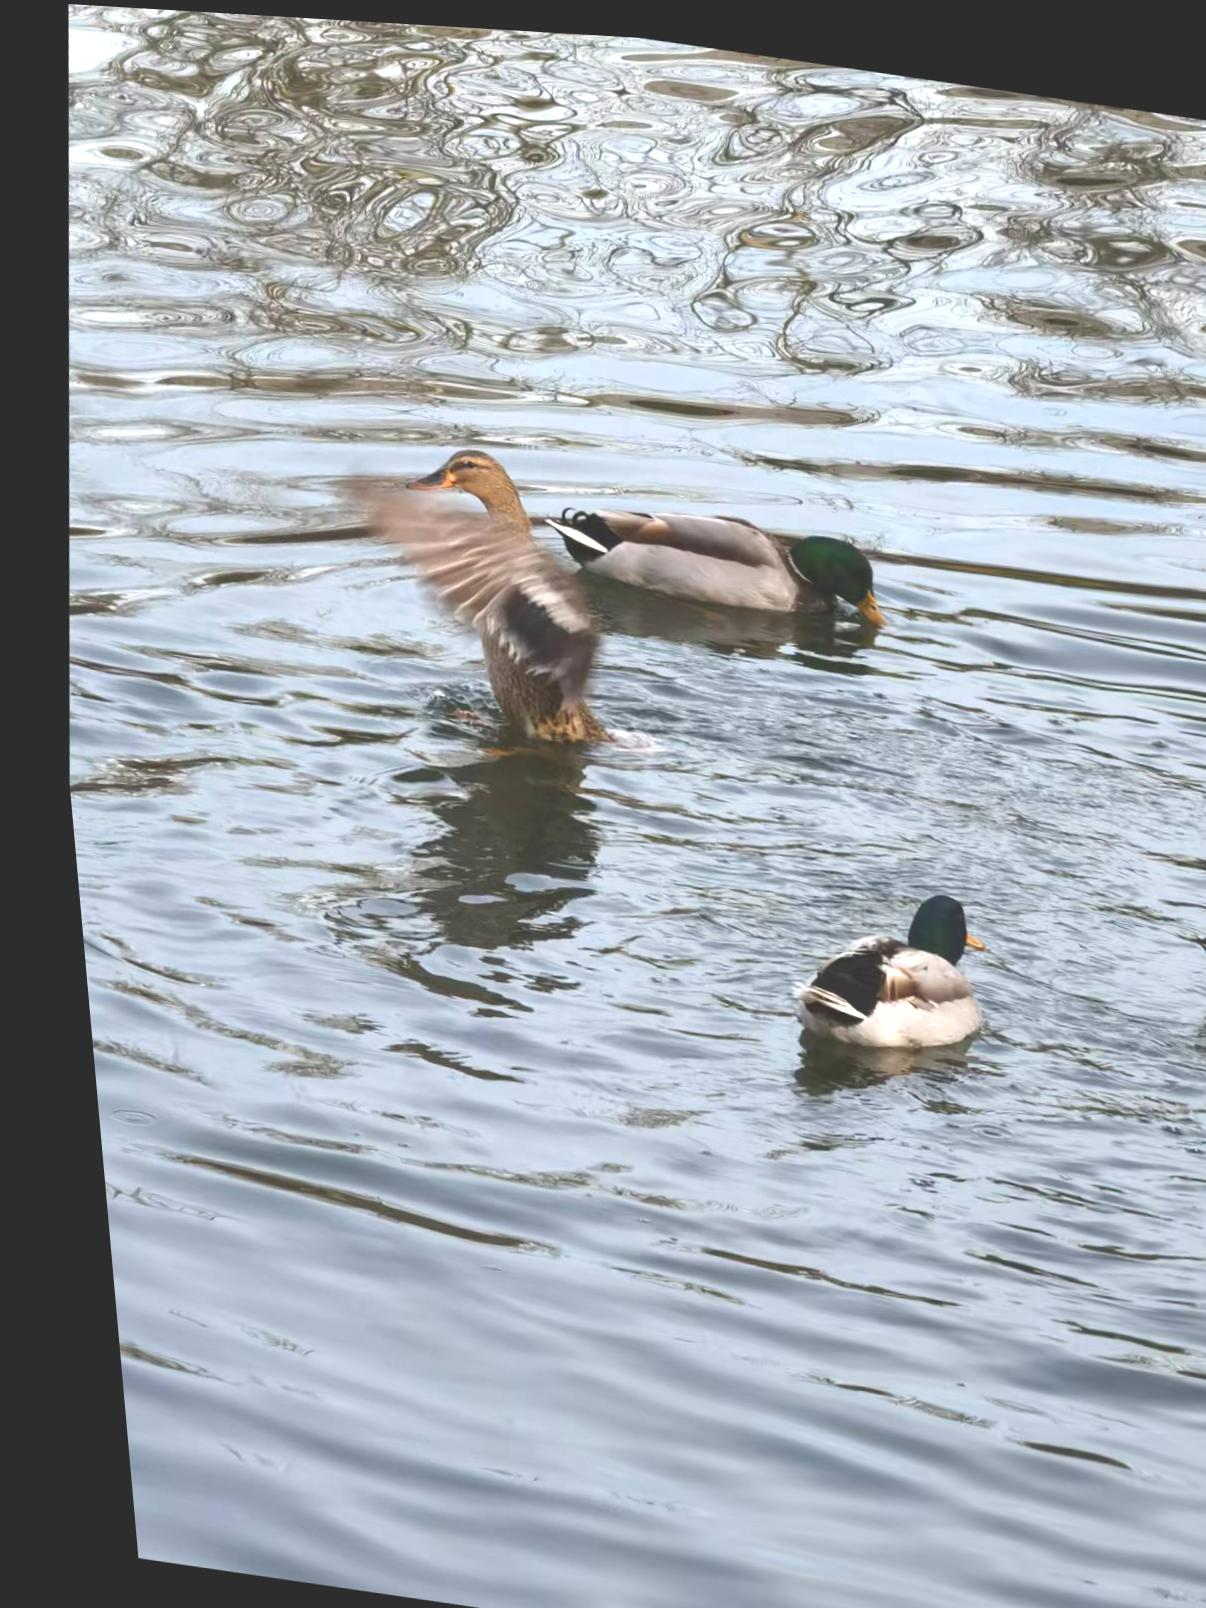duck: (318, 414, 637, 742), (547, 474, 896, 625), (759, 856, 1000, 1056)
